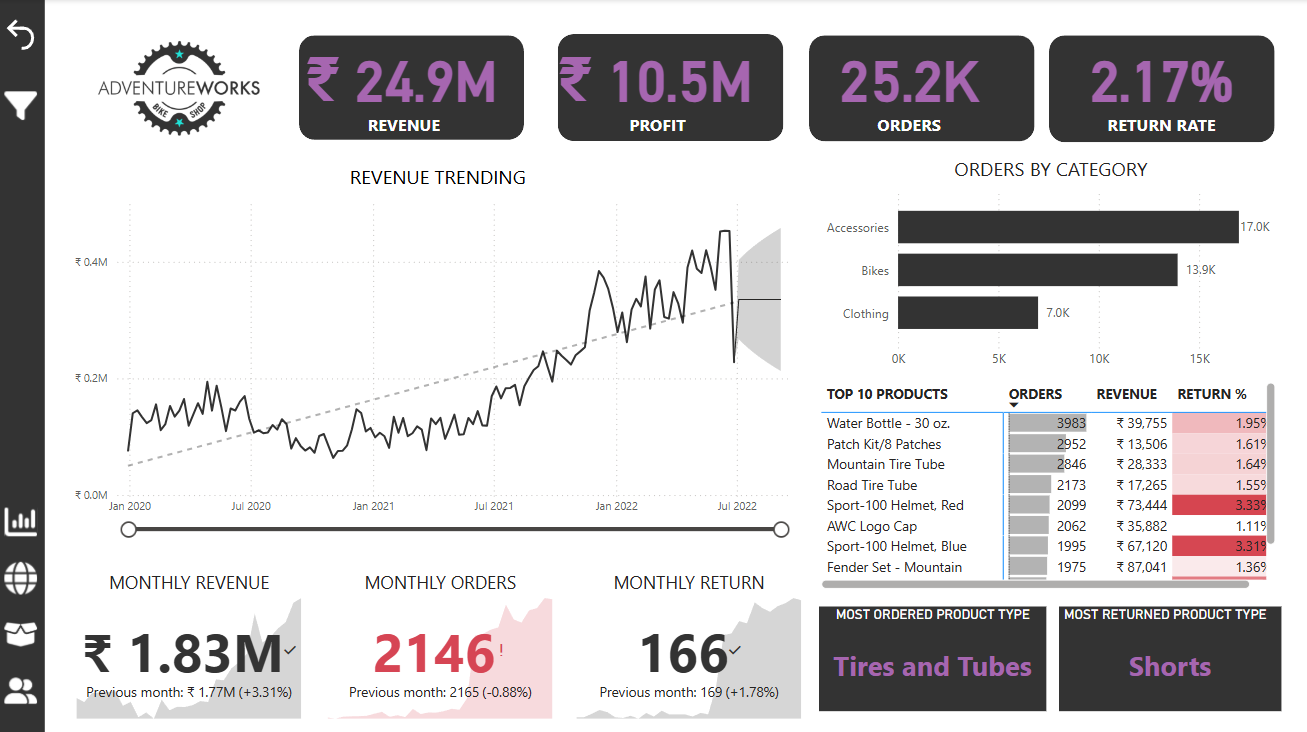

Layout of this report page (visuals, bound fields, positions):
{"tool":"powerbi","page":{"name":"EXEC DASHBOARD","canvas":[1280,720],"ordinal":0},"visuals":[{"type":"image","title":"AW LOGO","box":[70.9,34.2,211.6,106.4],"z":0},{"type":"card","fields":{"Values":["MeasureTable (2).TOTAL REVENUE"]},"box":[293.5,34.2,201.2,100.3],"z":0,"group":"g2"},{"type":"group","id":"g1","title":"KPI'S BACKGROUND","box":[293.5,34.2,955,106.4],"z":0,"group":"g3"},{"type":"shape","box":[792.3,35.4,220.8,103.9],"z":0,"group":"g1"},{"type":"actionButton","box":[1.2,491.6,45.2,40.4],"z":0,"group":"g4"},{"type":"shape","title":"LEFT NAV BACKGROUND","box":[0,0,45,720.2],"z":1000},{"type":"group","id":"g2","title":"KPI'S VALUE","box":[293.5,34.2,945.2,100.3],"z":1000,"group":"g3"},{"type":"shape","box":[547.1,34.2,220.8,105.2],"z":1000,"group":"g1"},{"type":"card","fields":{"Values":["MeasureTable (2).RETURN RATE"]},"box":[1037.5,34.2,201.2,100.3],"z":1000,"group":"g2"},{"type":"actionButton","box":[1.2,601.7,45.2,40.4],"z":1000,"group":"g4"},{"type":"group","id":"g3","title":"KPI'S","box":[293.5,34.2,955,106.4],"z":2000},{"type":"card","fields":{"Values":["MeasureTable (2).TOTAL PROFIT"]},"box":[541.5,34.2,201.2,100.3],"z":2000,"group":"g2"},{"type":"shape","box":[293.5,35.1,220.8,102.7],"z":2000,"group":"g1"},{"type":"actionButton","box":[1.2,656.7,45.2,40.4],"z":2000,"group":"g4"},{"type":"card","fields":{"Values":["MeasureTable (2).TOTAL ORDERS"]},"box":[789.5,34.2,201.2,100.3],"z":3000,"group":"g2"},{"type":"shape","box":[1027.7,35.4,220.8,105.2],"z":3000,"group":"g1"},{"type":"lineChart","title":"REVENUE TRENDING ","fields":{"Y":["MeasureTable (2).TOTAL REVENUE"],"Category":["Calendar Lookup.DATE HIERARCHY.Start of Year","Calendar Lookup.DATE HIERARCHY.Start of Quarter","Calendar Lookup.DATE HIERARCHY.Start of Month","Calendar Lookup.DATE HIERARCHY.Start of Week","Calendar Lookup.DATE HIERARCHY.Date"]},"box":[68.5,161.4,721.5,368.1],"z":3000},{"type":"actionButton","box":[1.2,546.6,45.2,40.4],"z":3000,"group":"g4"},{"type":"kpi","title":"MONTHLY  REVENUE ","fields":{"TrendLine":["Calendar Lookup.Start of Month"],"Indicator":["MeasureTable (2).TOTAL REVENUE"],"Goal":["MeasureTable (2).PREVIOUS MONTH REVENUE"]},"box":[70.9,558.8,229.9,150.4],"z":4000},{"type":"kpi","title":"MONTHLY RETURN","fields":{"TrendLine":["Calendar Lookup.Start of Month"],"Indicator":["MeasureTable (2).TOTAL RETURNS"],"Goal":["MeasureTable (2).PREVIOUS MONTH RETURNS"]},"box":[560.1,558.8,229.9,150.4],"z":5000},{"type":"kpi","title":"MONTHLY  ORDERS","fields":{"TrendLine":["Calendar Lookup.Start of Month"],"Indicator":["MeasureTable (2).TOTAL ORDERS"],"Goal":["MeasureTable (2).PREVIOUS MONTH ORDER"]},"box":[316.7,558.8,229.9,150.4],"z":6000},{"type":"clusteredBarChart","title":"ORDERS BY CATEGORY","fields":{"Category":["Product Categories Lookup.CategoryName"],"Y":["MeasureTable (2).TOTAL ORDERS"]},"box":[799.7,152.9,458.6,217.7],"z":7000},{"type":"pivotTable","fields":{"Rows":["Product Lookup.ProductName"],"Values":["MeasureTable (2).TOTAL ORDERS","MeasureTable (2).TOTAL REVENUE","MeasureTable (2).RETURN RATE"]},"box":[799.7,370.5,453.7,211.6],"z":8000},{"type":"card","title":"MOST ORDERED PRODUCT TYPE","fields":{"Values":["Min(Product Subcategories Lookup.SubcategoryName)"]},"box":[802.2,594.3,222.6,102.7],"z":9000},{"type":"card","title":"MOST RETURNED PRODUCT TYPE","fields":{"Values":["Min(Product Subcategories Lookup.SubcategoryName)"]},"box":[1037,594.3,217.7,102.7],"z":10000},{"type":"actionButton","box":[1.2,14.7,45.2,40.4],"z":11000},{"type":"group","id":"g4","title":"NAVIGATION BUTTON","box":[1.2,491.6,45.2,205.4],"z":12000},{"type":"actionButton","box":[1.2,84.4,44,40.4],"z":13000}]}

Visuals, with their boxes on the page's 1280x720 design canvas (x1, y1, x2, y2). These are canvas units, not pixel positions in the 1307x732 screenshot, which may show the page scaled, cropped or inside an application window:
"AW LOGO" image: <region>71, 34, 282, 141</region>
card - MeasureTable (2).TOTAL REVENUE: <region>294, 34, 495, 134</region>
"KPI'S BACKGROUND" group: <region>294, 34, 1248, 141</region>
shape: <region>792, 35, 1013, 139</region>
actionButton: <region>1, 492, 46, 532</region>
"LEFT NAV BACKGROUND" shape: <region>0, 0, 45, 720</region>
"KPI'S VALUE" group: <region>294, 34, 1239, 134</region>
shape: <region>547, 34, 768, 139</region>
card - MeasureTable (2).RETURN RATE: <region>1038, 34, 1239, 134</region>
actionButton: <region>1, 602, 46, 642</region>
"KPI'S" group: <region>294, 34, 1248, 141</region>
card - MeasureTable (2).TOTAL PROFIT: <region>542, 34, 743, 134</region>
shape: <region>294, 35, 514, 138</region>
actionButton: <region>1, 657, 46, 697</region>
card - MeasureTable (2).TOTAL ORDERS: <region>790, 34, 991, 134</region>
shape: <region>1028, 35, 1248, 141</region>
"REVENUE TRENDING " lineChart: <region>68, 161, 790, 530</region>
actionButton: <region>1, 547, 46, 587</region>
"MONTHLY  REVENUE " kpi: <region>71, 559, 301, 709</region>
"MONTHLY RETURN" kpi: <region>560, 559, 790, 709</region>
"MONTHLY  ORDERS" kpi: <region>317, 559, 547, 709</region>
"ORDERS BY CATEGORY" clusteredBarChart: <region>800, 153, 1258, 371</region>
pivotTable - Product Lookup.ProductName x MeasureTable (2).TOTAL ORDERS: <region>800, 370, 1253, 582</region>
"MOST ORDERED PRODUCT TYPE" card: <region>802, 594, 1025, 697</region>
"MOST RETURNED PRODUCT TYPE" card: <region>1037, 594, 1255, 697</region>
actionButton: <region>1, 15, 46, 55</region>
"NAVIGATION BUTTON" group: <region>1, 492, 46, 697</region>
actionButton: <region>1, 84, 45, 125</region>
